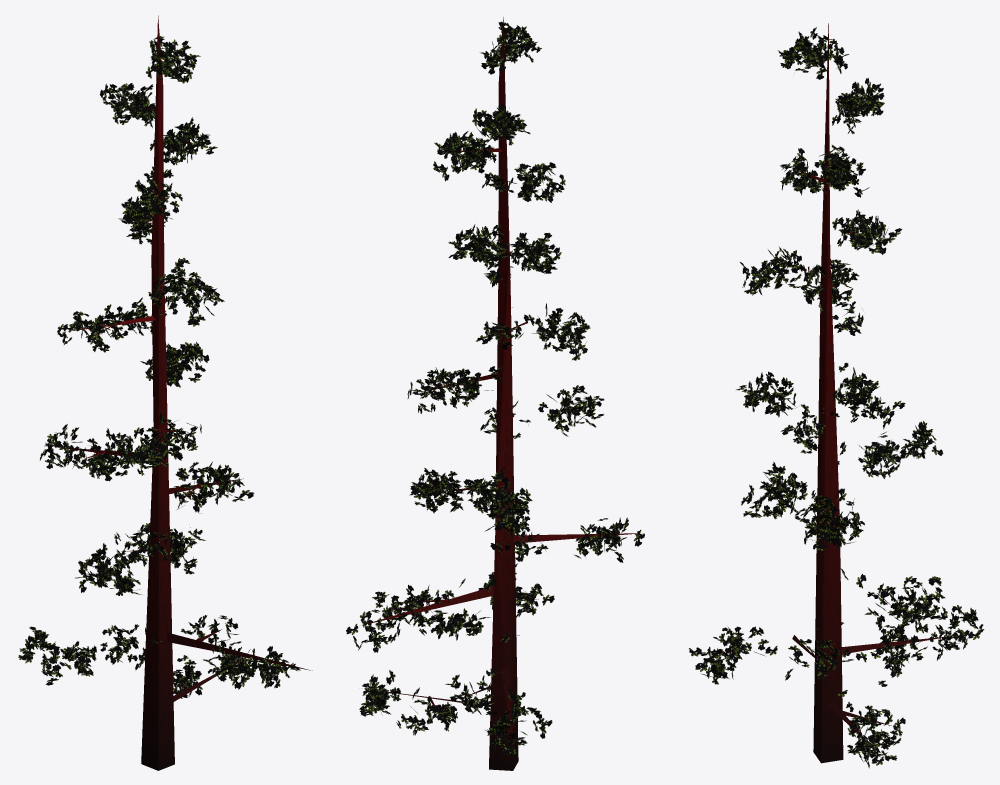
File: spruce_conifer_v03_LOD2.glb
The picture shows the model from 3 angles, left to right: view 1: azimuth 30°, elevation 25°; view 2: azimuth 150°, elevation 25°; view 3: azimuth 270°, elevation 25°; orthographic projection.
Visible parts, largest first — view 1: spruce_conifer_v03_LOD2; view 2: spruce_conifer_v03_LOD2; view 3: spruce_conifer_v03_LOD2.
Boxes of the visible parts, x1=… form: spruce_conifer_v03_LOD2: x1=18, y1=15, x2=312, y2=770; spruce_conifer_v03_LOD2: x1=346, y1=17, x2=644, y2=770; spruce_conifer_v03_LOD2: x1=688, y1=23, x2=984, y2=768.
Bounding box in the file's own units: 10.79 × 31.97 × 12.08.
Materials: 2 (2 with a texture image).
